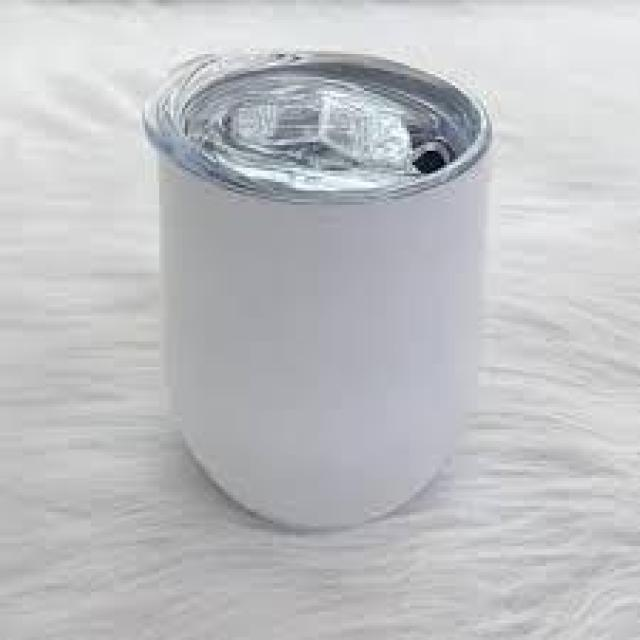bottle: (145, 47, 495, 519)
